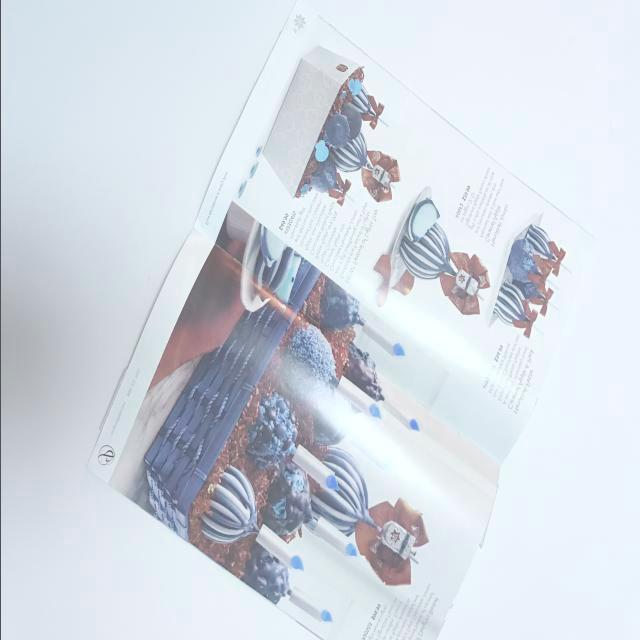paper: (87, 0, 591, 637)
